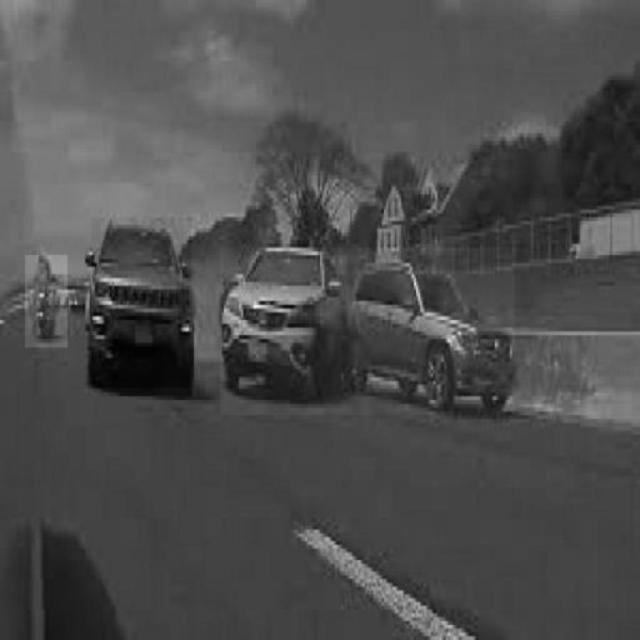accident: (220, 248, 514, 415)
vehicle: (92, 217, 192, 387), (25, 255, 67, 347)
